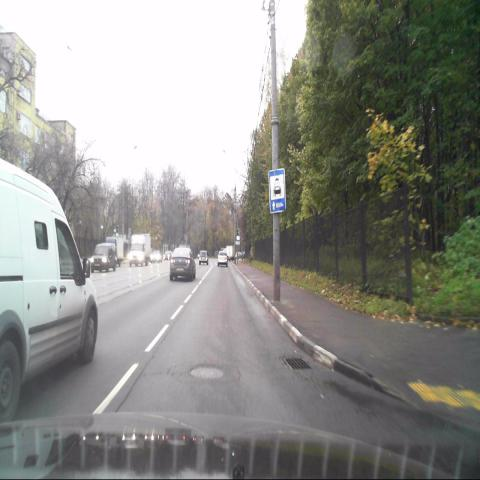7_5: (269, 169, 286, 214)
